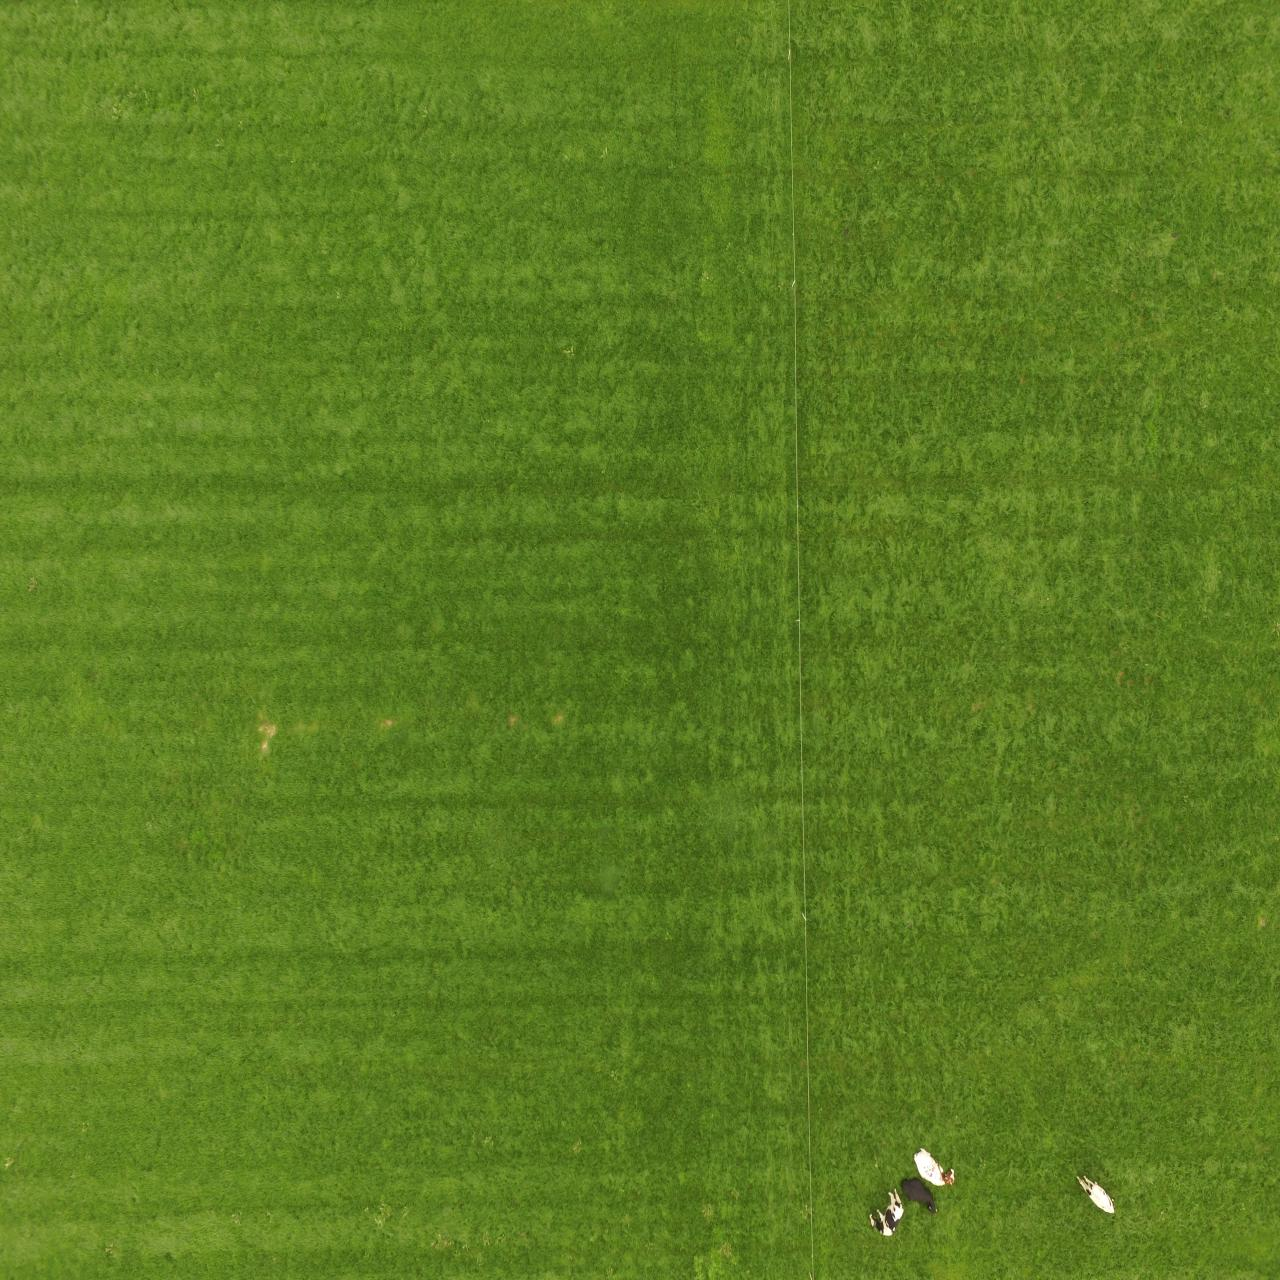cow: (913, 1145, 959, 1189), (867, 1192, 908, 1239), (1077, 1173, 1117, 1219), (901, 1178, 944, 1213)
